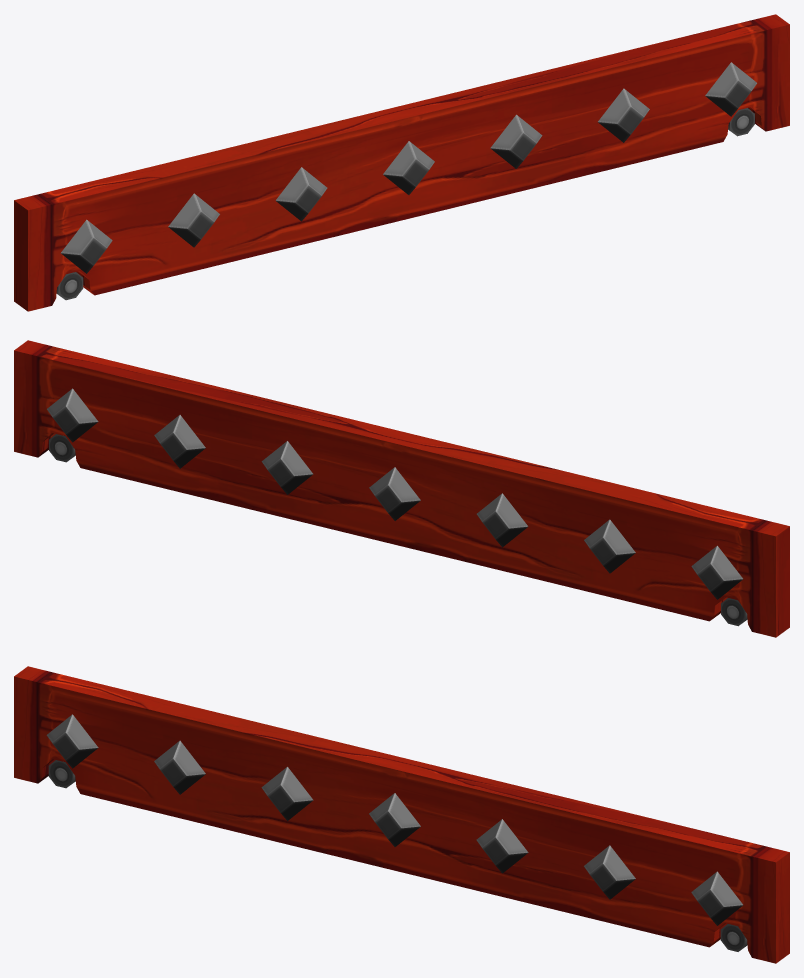
The model's file is dynamic_fence_rad_04.fbx.
3 renders of one model, top to bottom at view 1: azimuth 30°, elevation 25°; view 2: azimuth 150°, elevation 25°; view 3: azimuth 330°, elevation 25°, orthographic.
Visible parts, largest first — view 1: dynamic_fence_rad_04; view 2: dynamic_fence_rad_04; view 3: dynamic_fence_rad_04.
Boxes of the visible parts, box(x1,y1,x2,y2) form: dynamic_fence_rad_04: box(14, 14, 789, 311); dynamic_fence_rad_04: box(14, 340, 789, 637); dynamic_fence_rad_04: box(14, 666, 789, 963).
Size of the model in its own units: 315 by 40 by 19.91.
